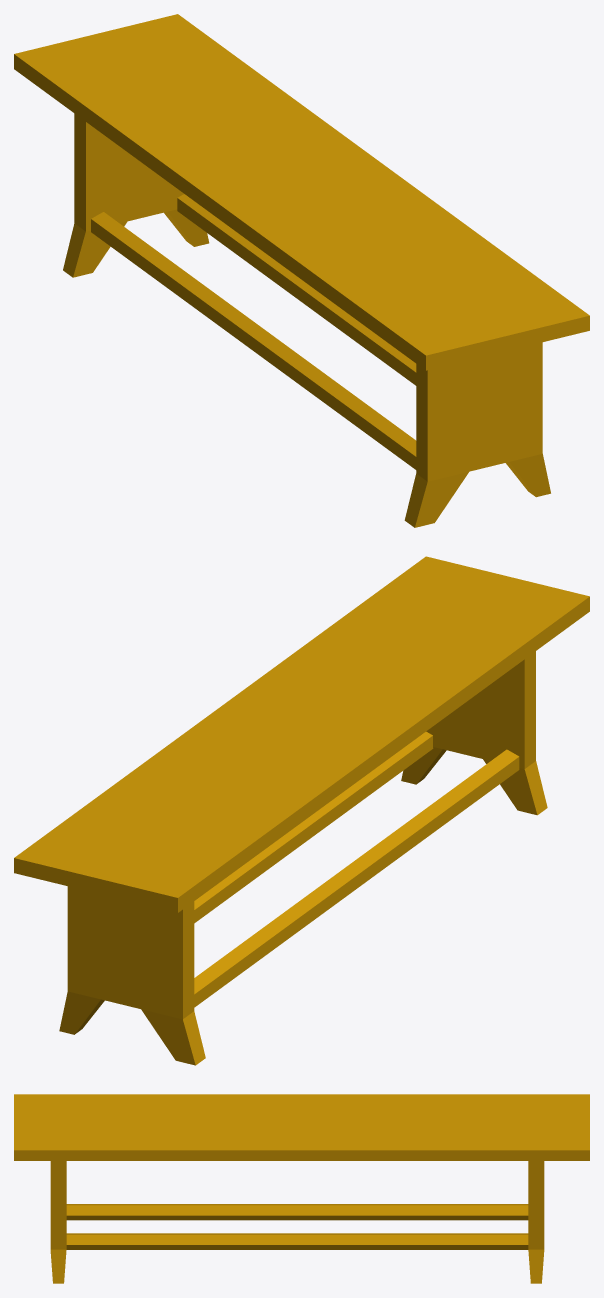
File: Bench.fbx
3 renders of one model, top to bottom at view 1: azimuth 30°, elevation 25°; view 2: azimuth 150°, elevation 25°; view 3: azimuth 270°, elevation 25°, orthographic. The views are drawn at different scales.
Parts seen in each view (by area): view 1: Cube; view 2: Cube; view 3: Cube.
Part boxes in pixels (<box>): Cube: <box>14,14,589,527</box>; Cube: <box>14,556,589,1065</box>; Cube: <box>14,1094,589,1283</box>.
Bounding box in the file's own units: 0.398 × 0.454 × 1.73.
